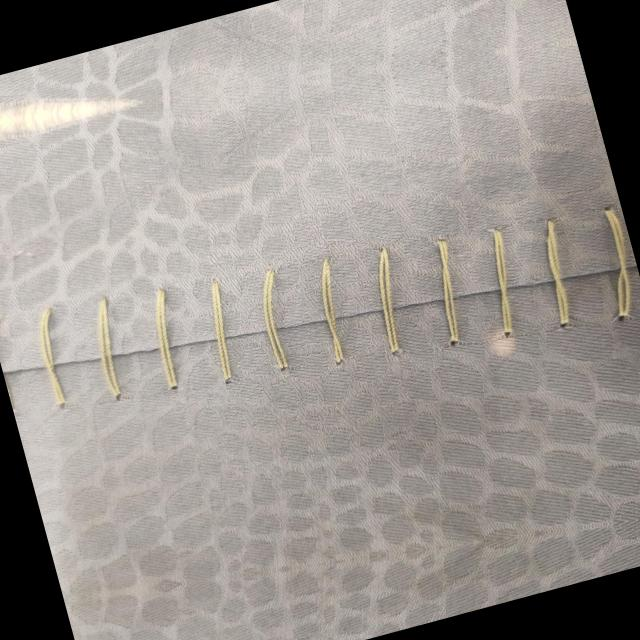gray stitch: (297, 172, 640, 391), (19, 240, 303, 438)
